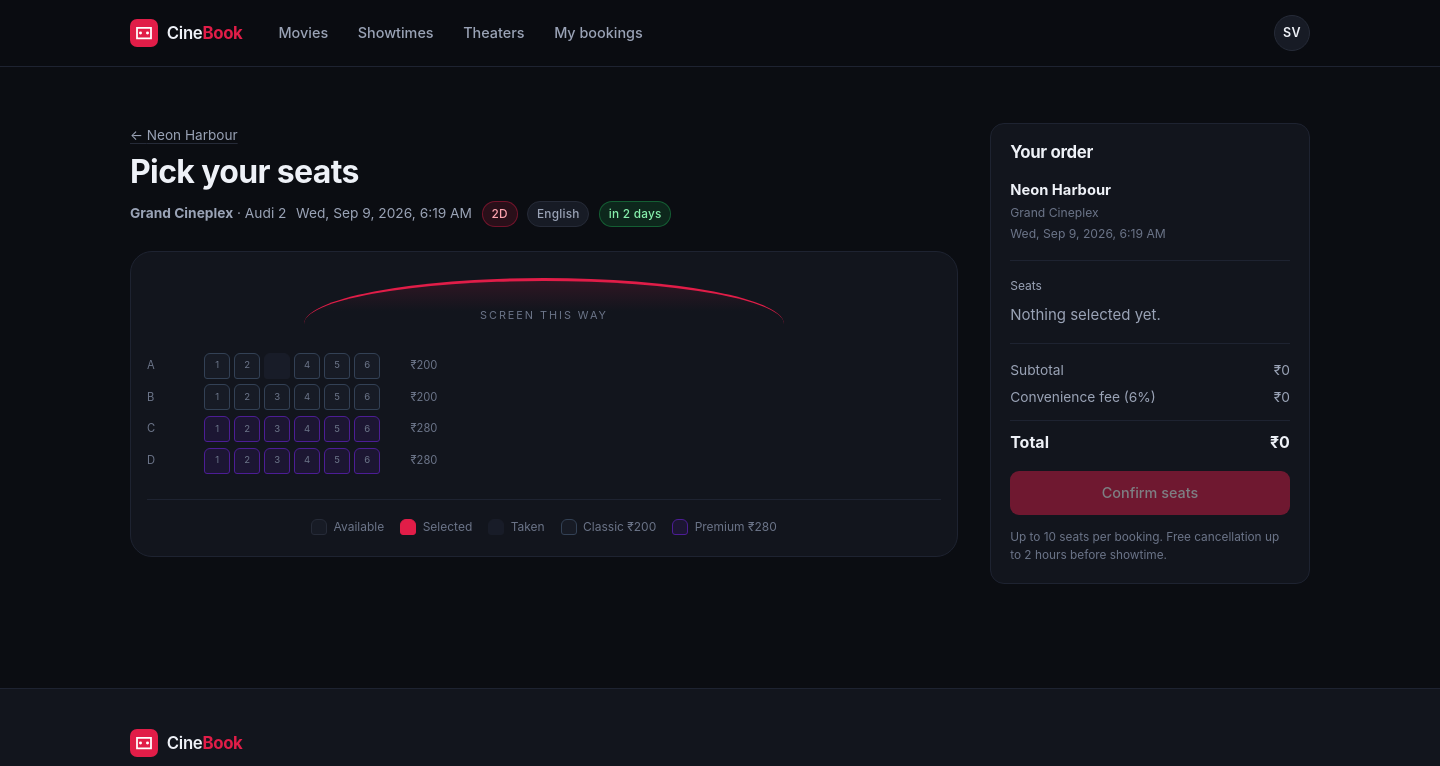
seat booking › the seat map renders, taken seats are disabled, and totals add up
This screenshot has width=1440, height=766.
Check: the heading "Pick your seats" is shown, box [130,152,359,191]
Step 1. Click the 1st button "1" → (217, 366), box [204,353,230,379]
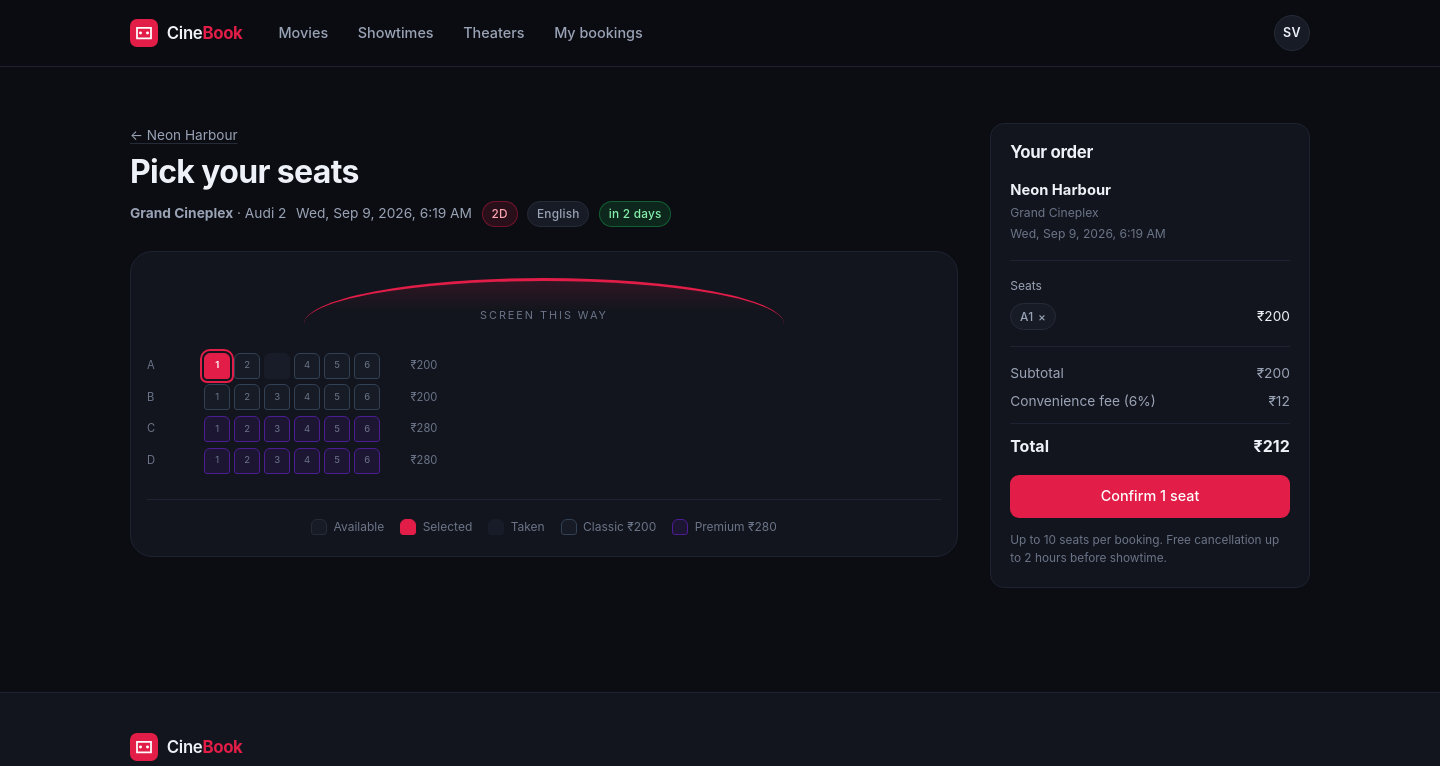
Step 2. Click the 3rd button "2" → (247, 429), box [234,416,260,442]
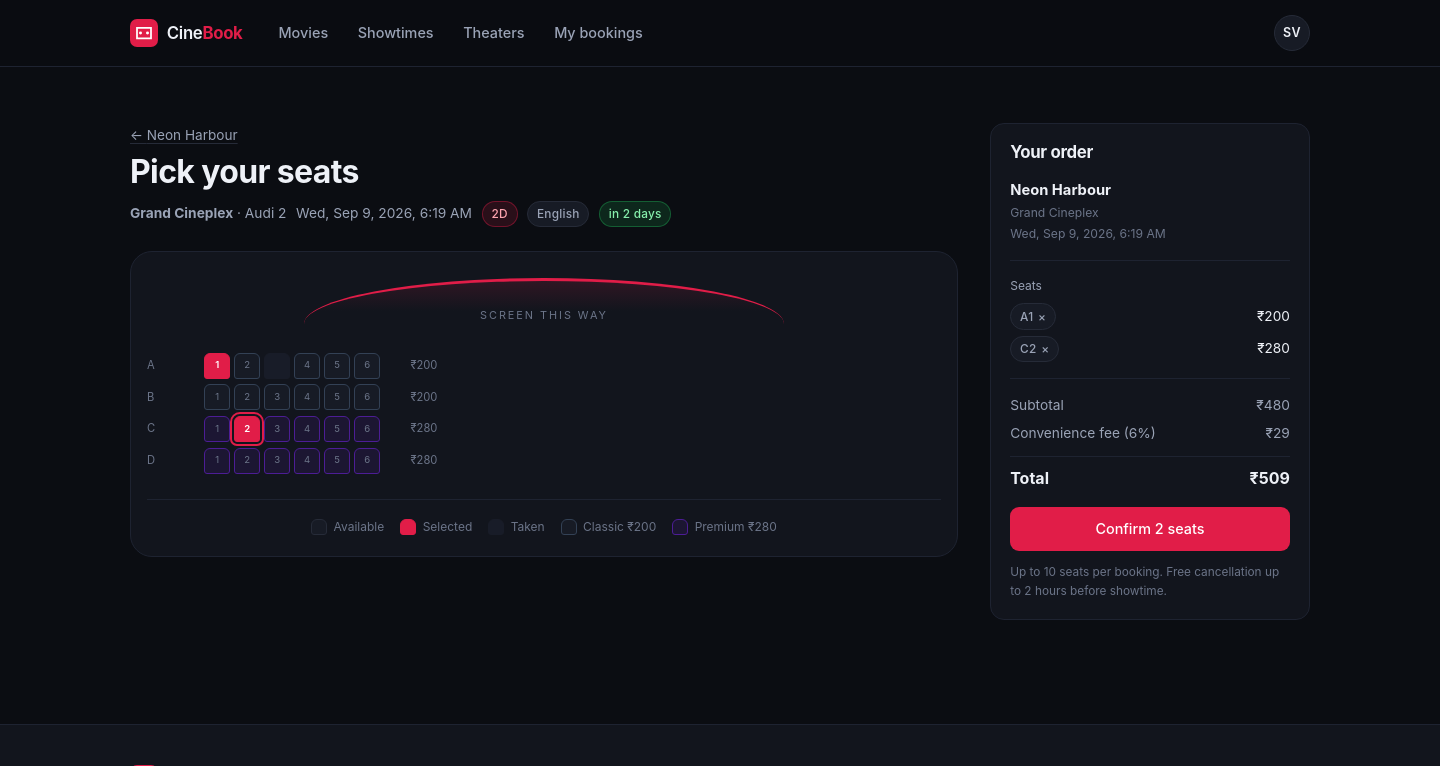
Check: the button "Confirm 2 seats" is enabled, box [1010,507,1290,550]
Check: the text "₹480" is shown, box [1256,395,1290,417]
Check: the text "₹509" is shown, box [1250,466,1290,491]
